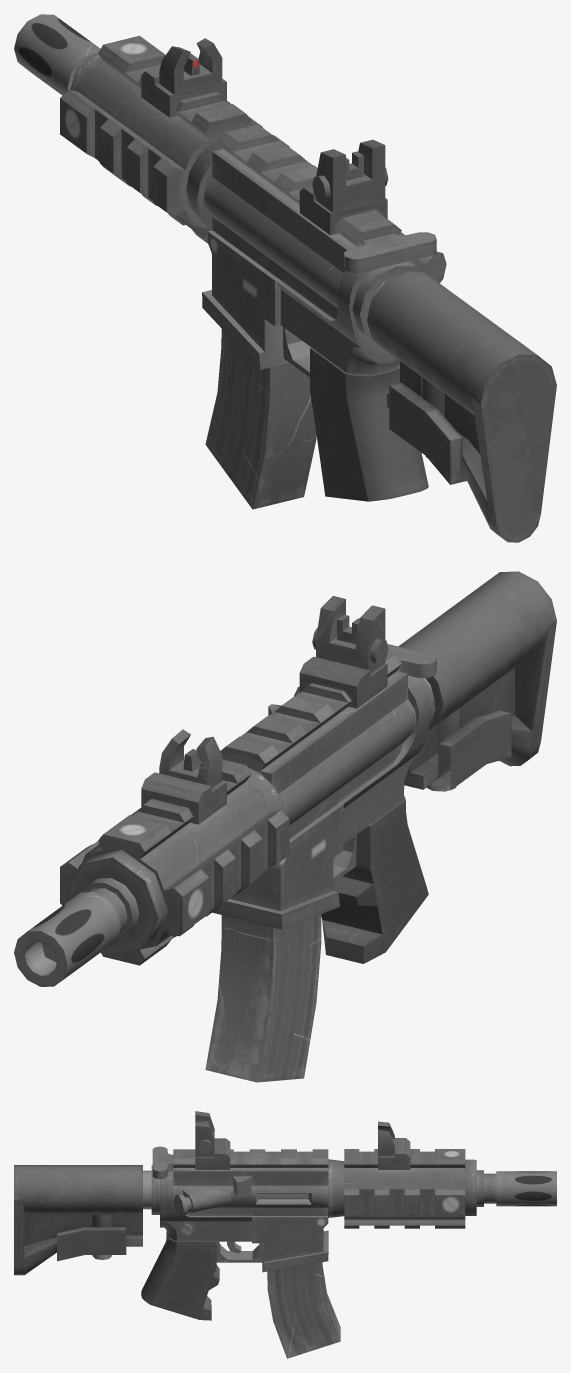
Rendered from IG_Gun_MF.fbx.
3 renders of one model, top to bottom at view 1: azimuth 30°, elevation 25°; view 2: azimuth 150°, elevation 25°; view 3: azimuth 270°, elevation 25°, orthographic. The views are drawn at different scales.
Visible parts, largest first — view 1: WPN_M4, HideIf_Stock, HideIf_Scope, HideIf_Muzzle; view 2: WPN_M4, HideIf_Stock, HideIf_Scope, HideIf_Muzzle; view 3: WPN_M4, HideIf_Stock, HideIf_Scope, HideIf_Muzzle.
Part boxes in pixels (<box>): WPN_M4: <box>60,35,446,509</box>; HideIf_Stock: <box>352,261,556,542</box>; HideIf_Scope: <box>141,38,388,235</box>; HideIf_Muzzle: <box>14,14,100,95</box>; WPN_M4: <box>60,644,436,1082</box>; HideIf_Stock: <box>398,571,556,791</box>; HideIf_Scope: <box>141,596,388,824</box>; HideIf_Muzzle: <box>14,892,120,986</box>; WPN_M4: <box>141,1146,496,1358</box>; HideIf_Stock: <box>14,1165,159,1275</box>; HideIf_Scope: <box>195,1111,410,1169</box>; HideIf_Muzzle: <box>496,1171,556,1206</box>.
Bounding box in the file's own units: 0.1728 × 0.4897 × 1.03.
